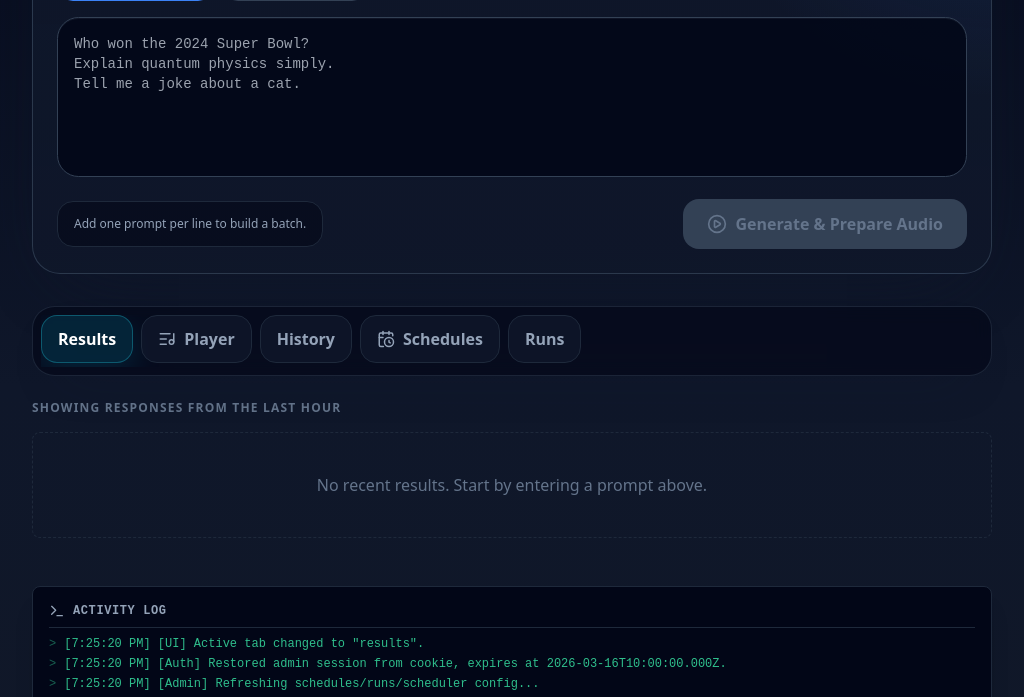
Scenario: App button regression coverage › starts bulk playback for a checked scheduled item
(page scrolled)
Click the button "player" at {"x": 196, "y": 338}, box [141, 314, 252, 362]
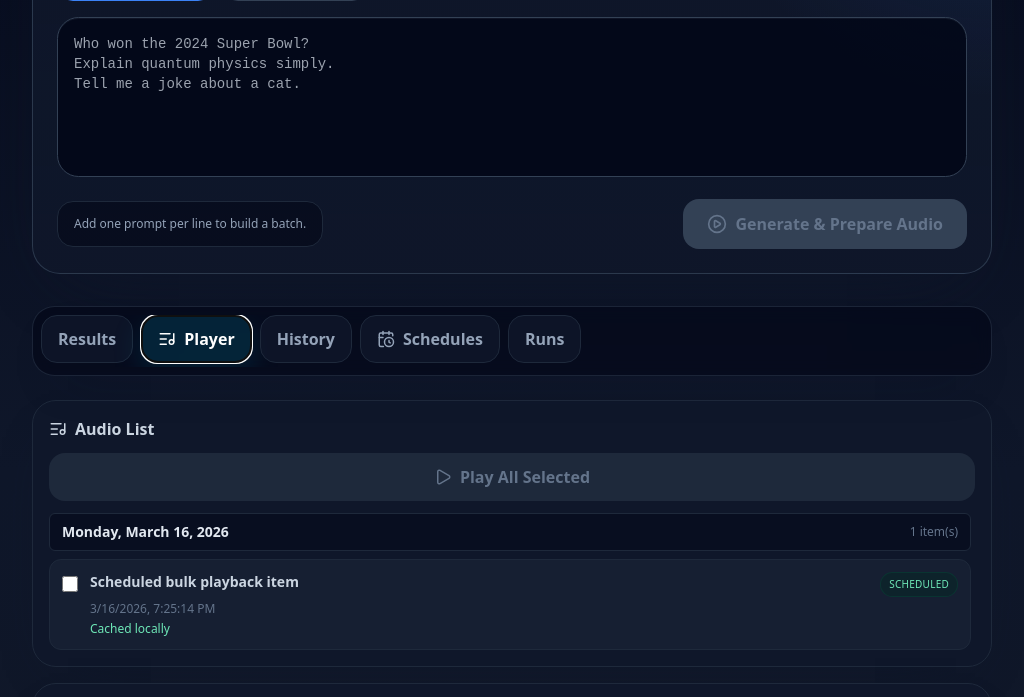
Click the checkbox named "select player item scheduled bulk playback item" at {"x": 70, "y": 584}, box [62, 576, 78, 592]
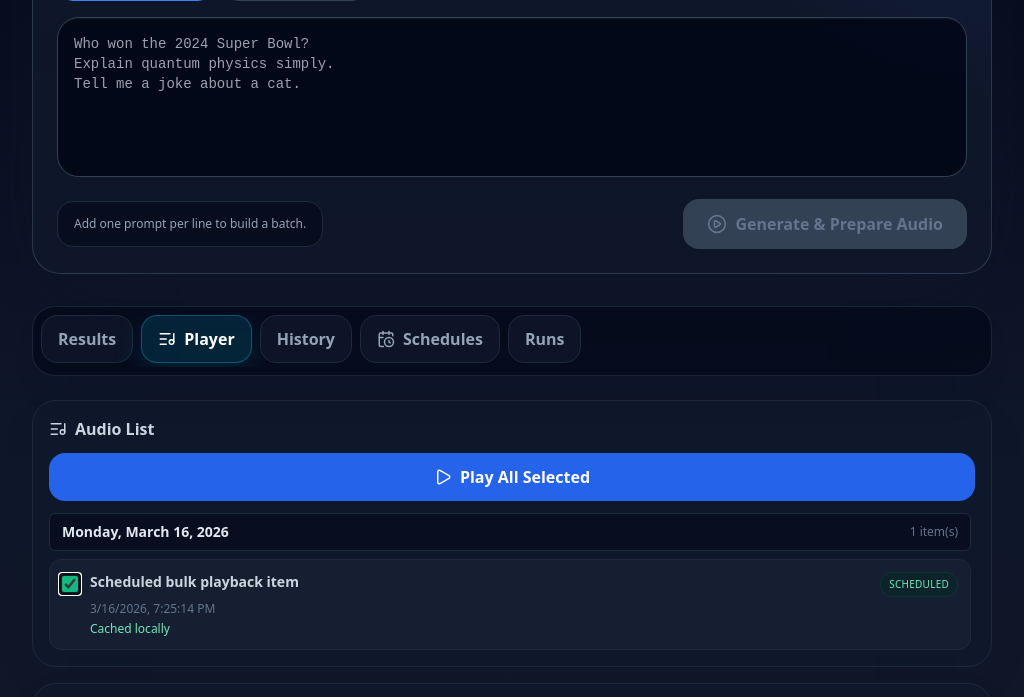
Click the button "Play All Selected" at {"x": 512, "y": 476}, box [49, 452, 975, 500]
(page scrolled)
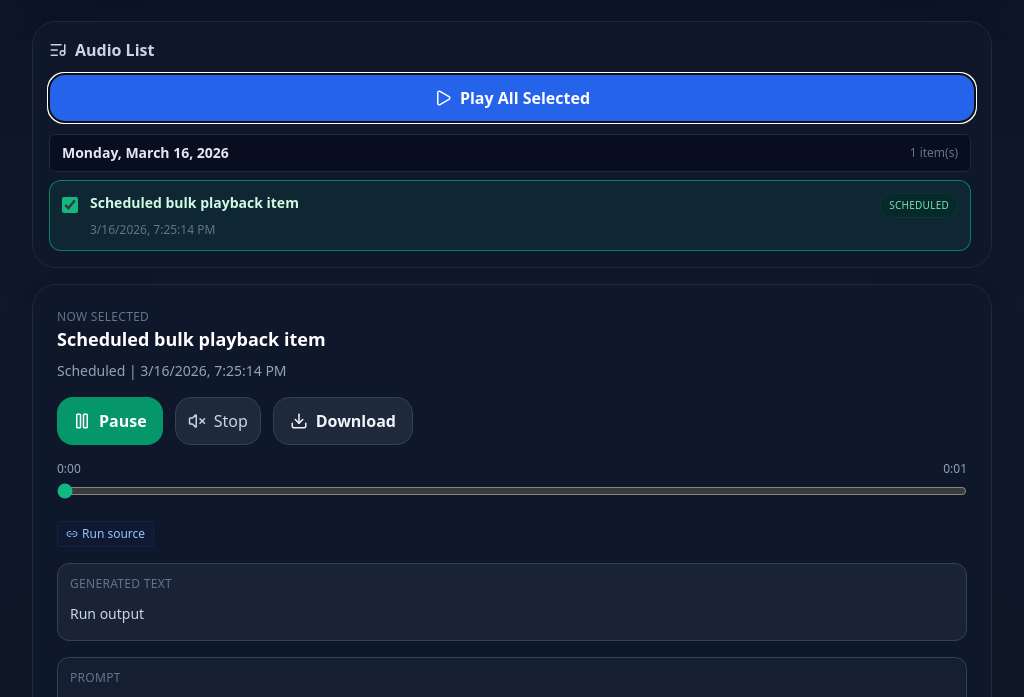
Expected: the button "Pause" is shown, [57, 396, 163, 444]
Expected: the heading "Scheduled bulk playback item" is shown, [57, 326, 326, 350]
